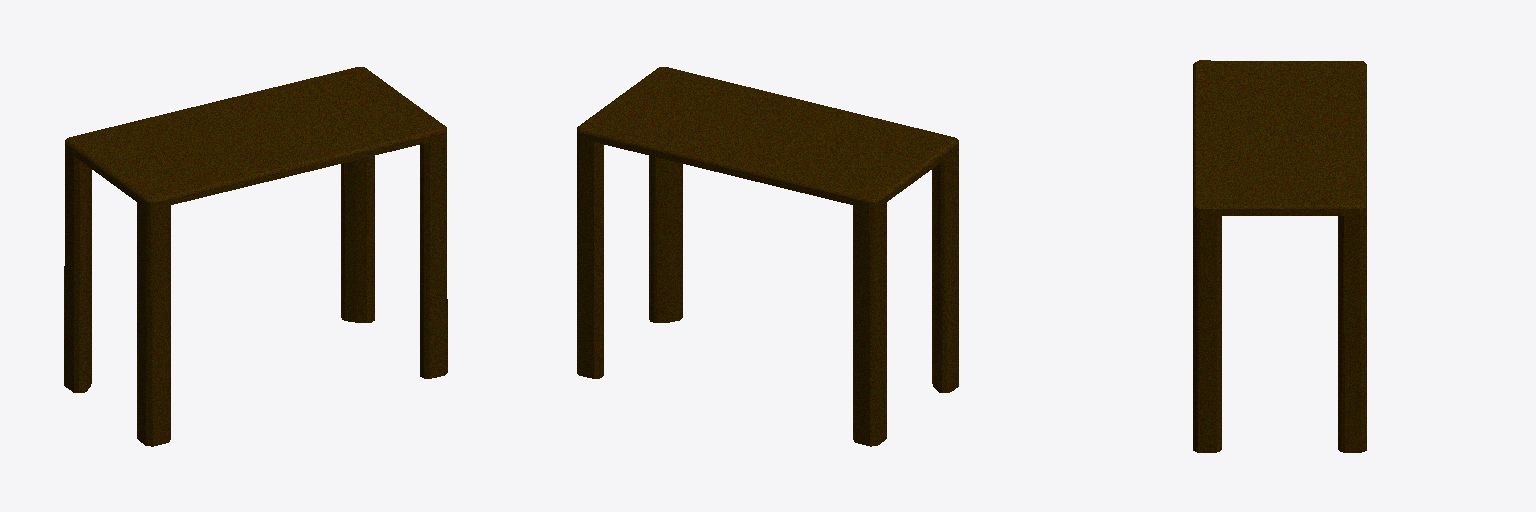
3 views of the same model, side by side, from view 1: azimuth 30°, elevation 25°; view 2: azimuth 150°, elevation 25°; view 3: azimuth 270°, elevation 25° (orthographic).
Visible parts, largest first — view 1: Body2; view 2: Body2; view 3: Body2.
Part boxes in pixels (bbox=[...]): Body2: bbox=[64, 67, 447, 446]; Body2: bbox=[577, 67, 958, 446]; Body2: bbox=[1193, 60, 1366, 452].
Size of the model in its own units: 2.5 by 1.95 by 1.25.
Materials: 1 (1 with a texture image).